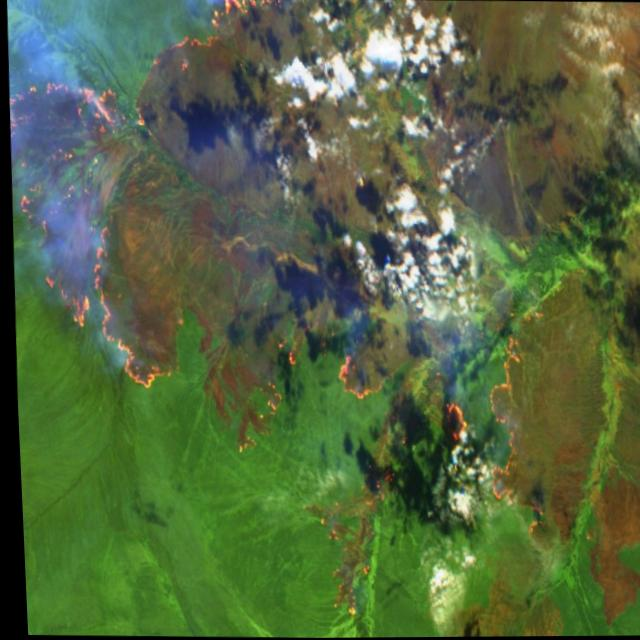fire: (0, 0, 551, 627)
